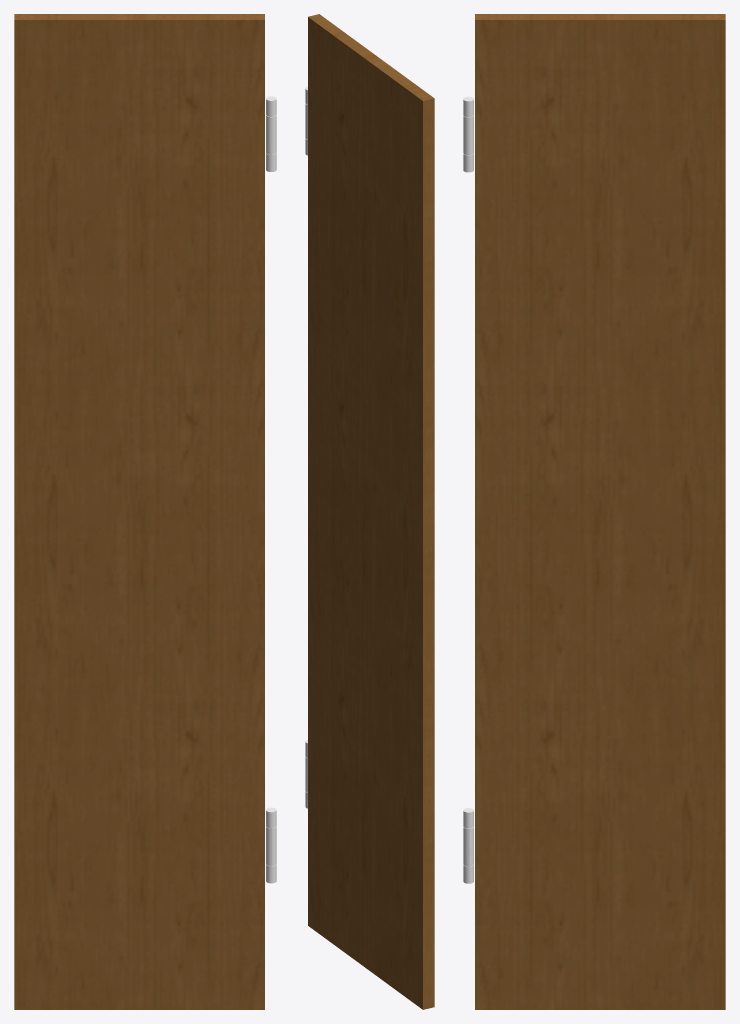
Rendered from DoorPart01.fbx.
The picture shows the model from 3 angles, left to right: view 1: azimuth 90°, elevation 25°; view 2: azimuth 210°, elevation 25°; view 3: azimuth 270°, elevation 25°; orthographic projection. The views are drawn at different scales.
Visible parts, largest first — view 1: DoorPart01; view 2: DoorPart01; view 3: DoorPart01.
Part boxes in pixels (x1=…): DoorPart01: x1=14, y1=14, x2=276, y2=1009; DoorPart01: x1=305, y1=14, x2=434, y2=1009; DoorPart01: x1=463, y1=14, x2=725, y2=1009.
Size of what is drawn, in the model's own units: 2.87 by 52.2 by 217.
Materials: 2 (1 with a texture image).
